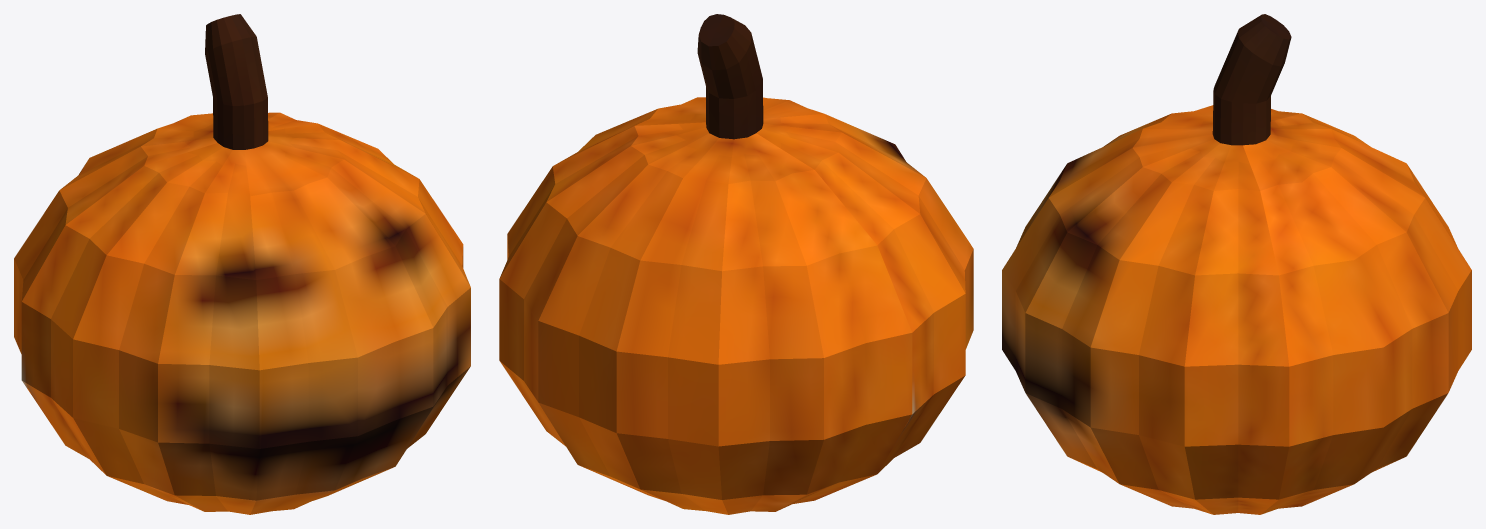
File: pumpkinhat.fbx
The picture shows the model from 3 angles, left to right: view 1: azimuth 30°, elevation 25°; view 2: azimuth 150°, elevation 25°; view 3: azimuth 270°, elevation 25°; orthographic projection. The views are drawn at different scales.
Parts seen in each view (by area): view 1: pumpkinhat; view 2: pumpkinhat; view 3: pumpkinhat.
Part boxes in pixels (x1=…): pumpkinhat: x1=14, y1=14, x2=470, y2=514; pumpkinhat: x1=499, y1=14, x2=973, y2=514; pumpkinhat: x1=1002, y1=14, x2=1471, y2=514.
Size of the model in its own units: 13.77 by 15.67 by 14.12.
